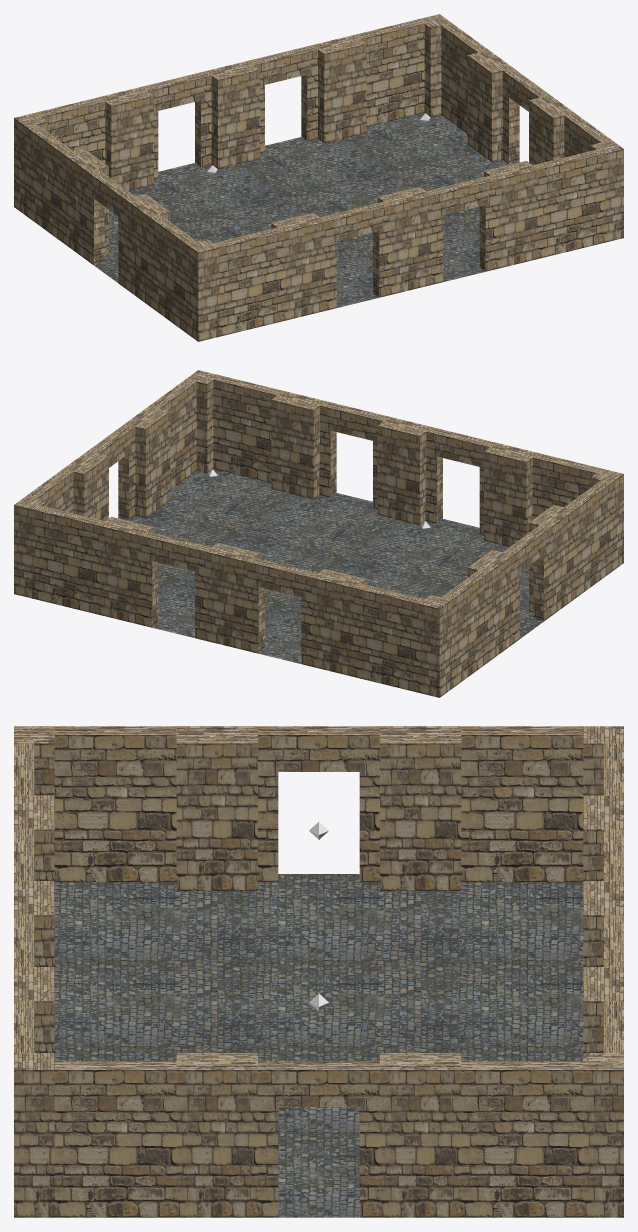
The model's file is 1_6doorConnector.fbx.
The picture shows the model from 3 angles, top to bottom: view 1: azimuth 30°, elevation 25°; view 2: azimuth 150°, elevation 25°; view 3: azimuth 270°, elevation 25°; orthographic projection. The views are drawn at different scales.
Visible parts, largest first — view 1: Cube_2, Plane; view 2: Cube_2, Plane; view 3: Cube_2, Plane.
Boxes of the visible parts, x1,y1,x2,y2 form: Cube_2: (14, 14, 623, 341); Plane: (94, 113, 519, 307); Cube_2: (14, 370, 623, 697); Plane: (118, 469, 543, 663); Cube_2: (14, 726, 623, 1217); Plane: (54, 874, 583, 1217).
Bounding box in the file's own units: 40 × 8 × 30.
3 materials, 3 textured.
